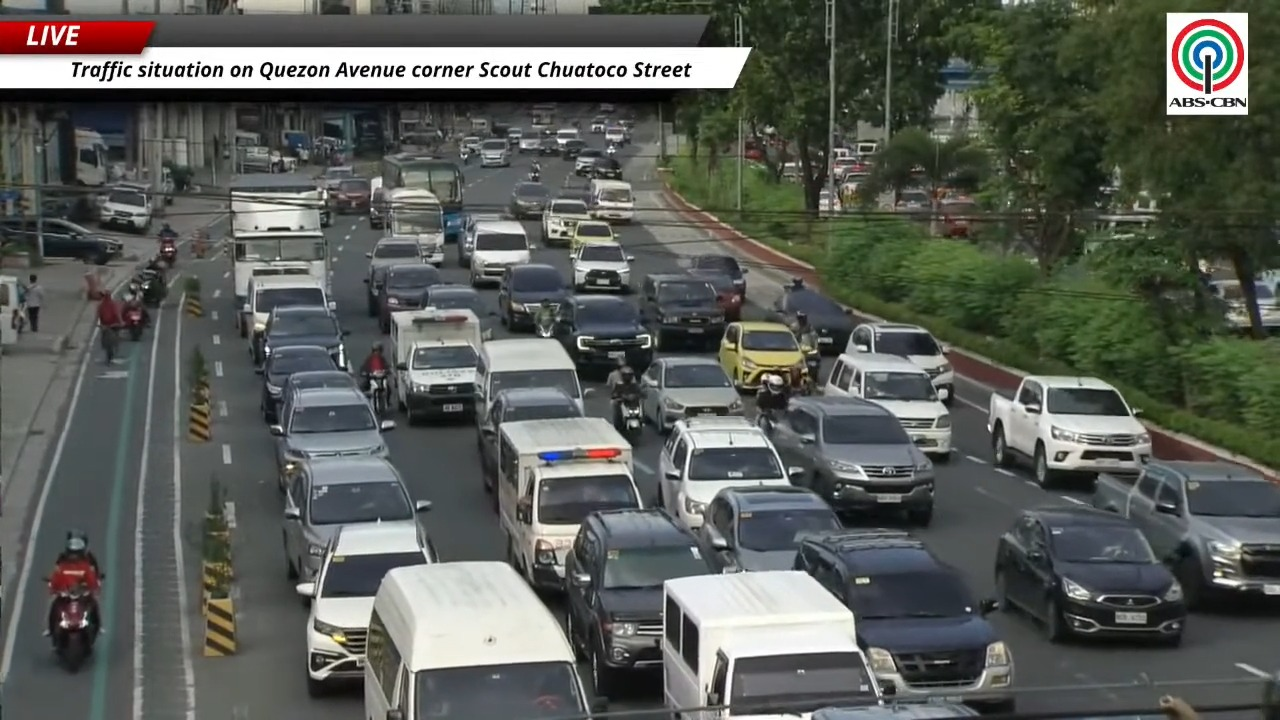bus: (229, 174, 329, 306), (380, 153, 465, 242), (384, 188, 444, 266)
car: (795, 528, 1015, 712), (565, 509, 712, 696), (994, 506, 1187, 645), (296, 523, 437, 696), (768, 396, 934, 525), (284, 457, 429, 580), (657, 416, 799, 530), (271, 388, 395, 489), (699, 487, 841, 571), (477, 388, 582, 497), (845, 322, 954, 404), (641, 355, 743, 433), (554, 295, 654, 371), (641, 273, 725, 349), (260, 346, 338, 423), (0, 216, 122, 265), (254, 306, 348, 369), (719, 321, 804, 390), (770, 288, 854, 354), (498, 263, 569, 330), (365, 236, 424, 316), (271, 369, 358, 421), (378, 263, 442, 333), (468, 220, 531, 286), (570, 243, 634, 293), (689, 269, 743, 321), (688, 254, 747, 299), (99, 184, 152, 234), (458, 213, 505, 267), (541, 197, 590, 246), (317, 165, 357, 218), (421, 284, 484, 316), (508, 182, 549, 219), (331, 177, 371, 213), (570, 220, 616, 251), (318, 165, 357, 188), (368, 187, 388, 229), (574, 148, 604, 176), (479, 140, 510, 167), (590, 157, 622, 179), (556, 184, 589, 205), (536, 133, 560, 156), (561, 138, 587, 158), (604, 125, 629, 145), (517, 134, 542, 154), (505, 127, 523, 148), (460, 135, 481, 152), (589, 116, 607, 133), (598, 103, 615, 114)
motorcycle: (51, 587, 97, 672), (619, 397, 642, 443), (368, 371, 389, 419), (138, 271, 166, 306), (801, 345, 820, 394), (122, 304, 145, 341), (788, 367, 812, 395), (158, 238, 176, 268), (755, 409, 774, 432), (536, 316, 554, 337), (606, 144, 616, 156), (528, 170, 538, 182)
truck: (662, 570, 880, 719), (1092, 459, 1279, 609), (493, 417, 641, 591), (987, 375, 1151, 487), (389, 308, 482, 423), (812, 702, 979, 719)
